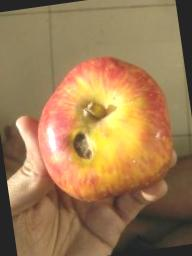Apple Overripe: (17, 42, 192, 215)
